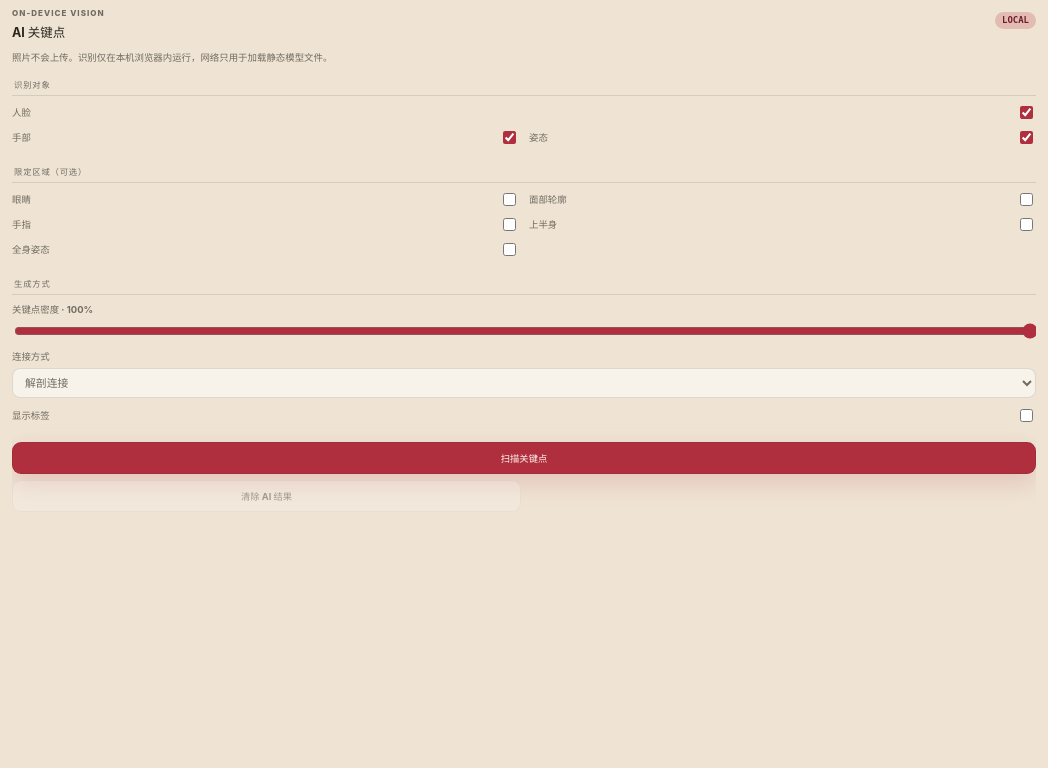
Test: AI scan panel › scans selected modes with chosen options and prevents a duplicate success
Click the checkbox labelled "手部". click: (510, 137)
box: left=503, top=131, right=516, bottom=144
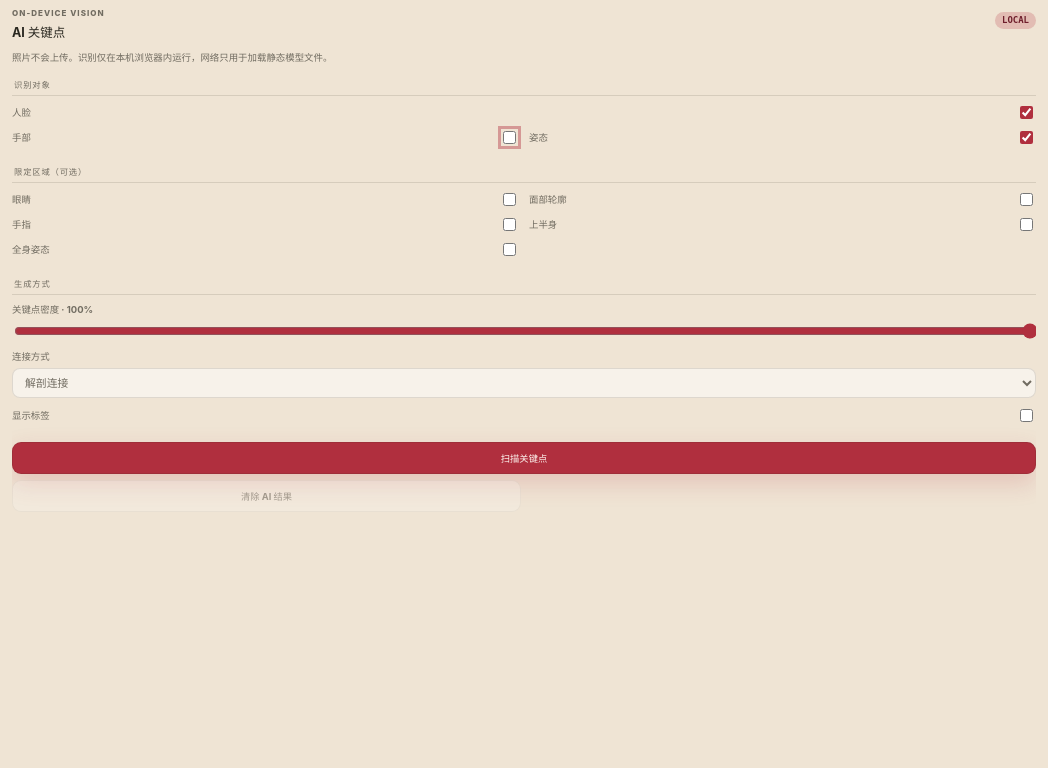
Click the checkbox labelled "姿态". click: (1026, 137)
box: left=1020, top=131, right=1033, bottom=144
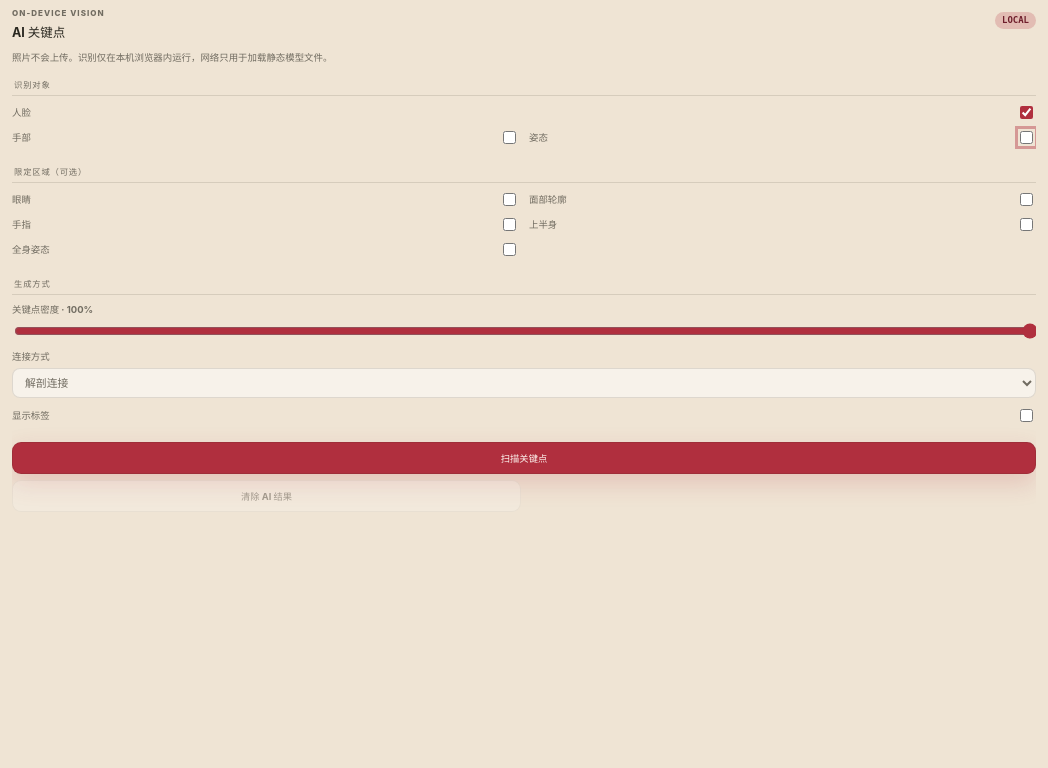
Click the checkbox labelled "眼睛". click: (510, 199)
box: left=503, top=193, right=516, bottom=206
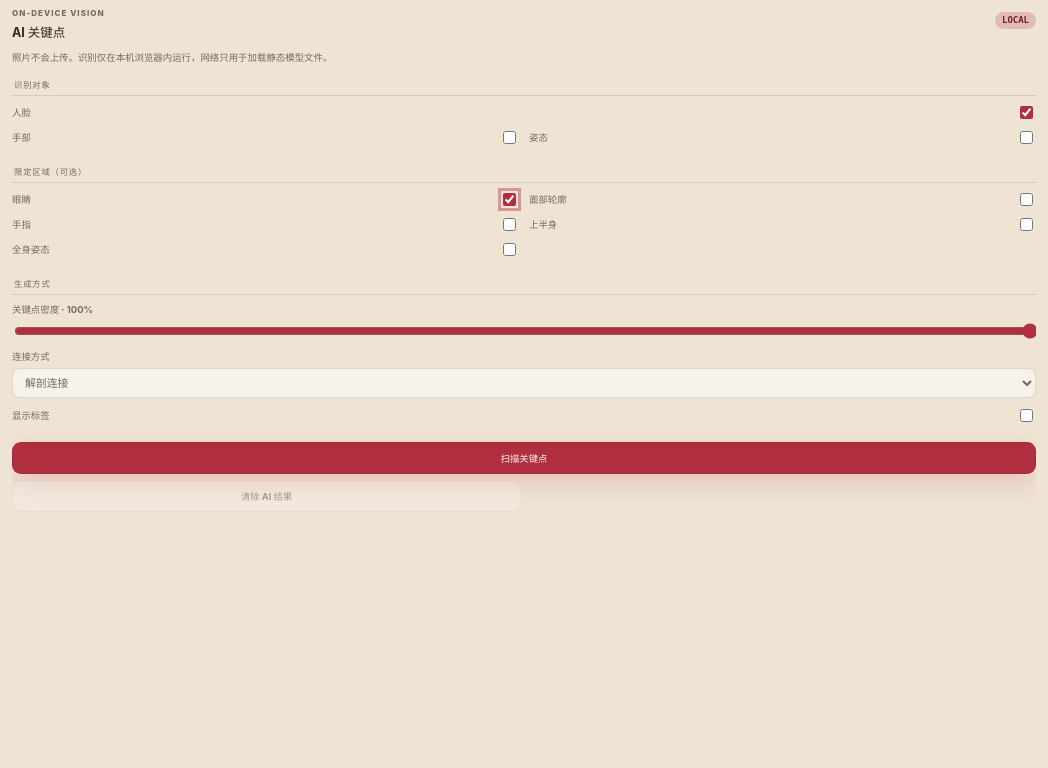
Set the slider labelled "关键点密度" to "50". click: (469, 331)
box: left=14, top=323, right=1036, bottom=339
Select "最近邻" in the dropdown labelled "连接方式". click: (524, 383)
box: left=12, top=368, right=1036, bottom=398
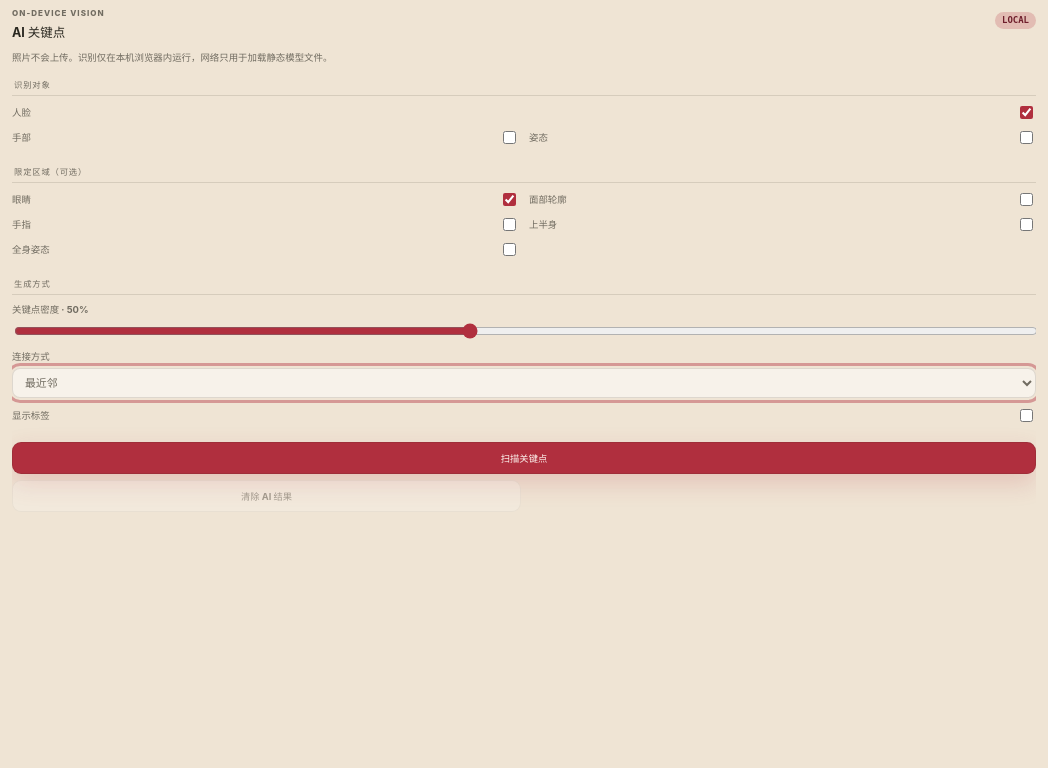
Click the checkbox labelled "显示标签". click: (1026, 415)
box: left=1020, top=409, right=1033, bottom=422
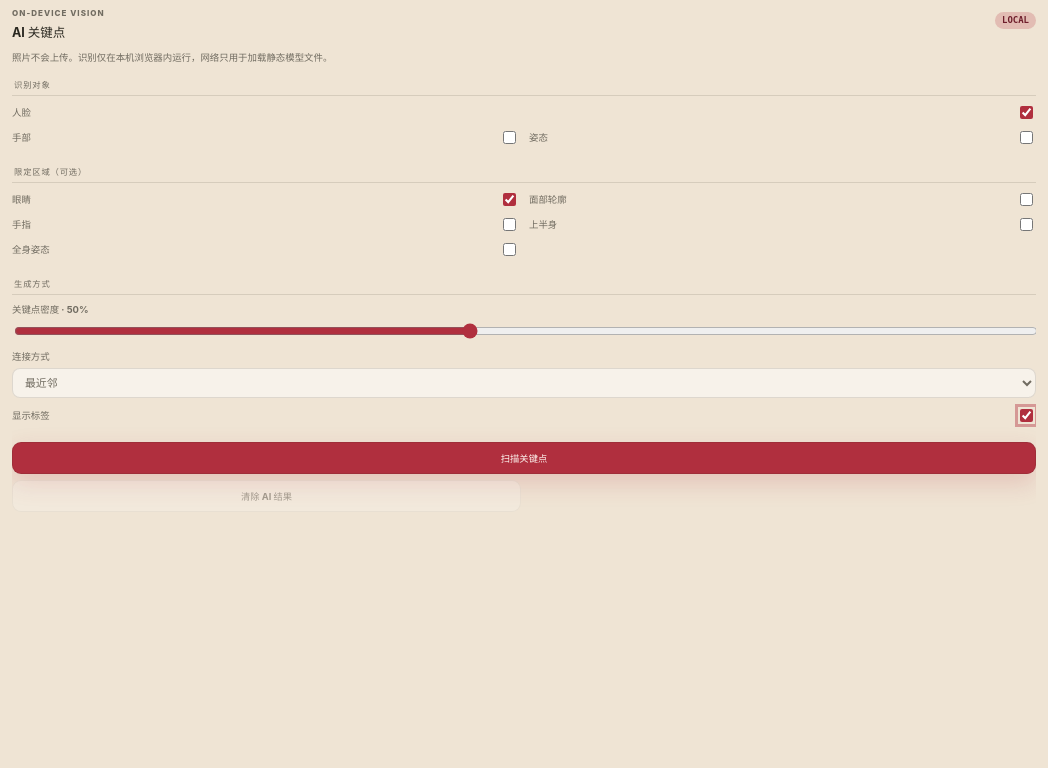
Click the button "扫描关键点". click: (524, 458)
box: left=12, top=442, right=1036, bottom=474
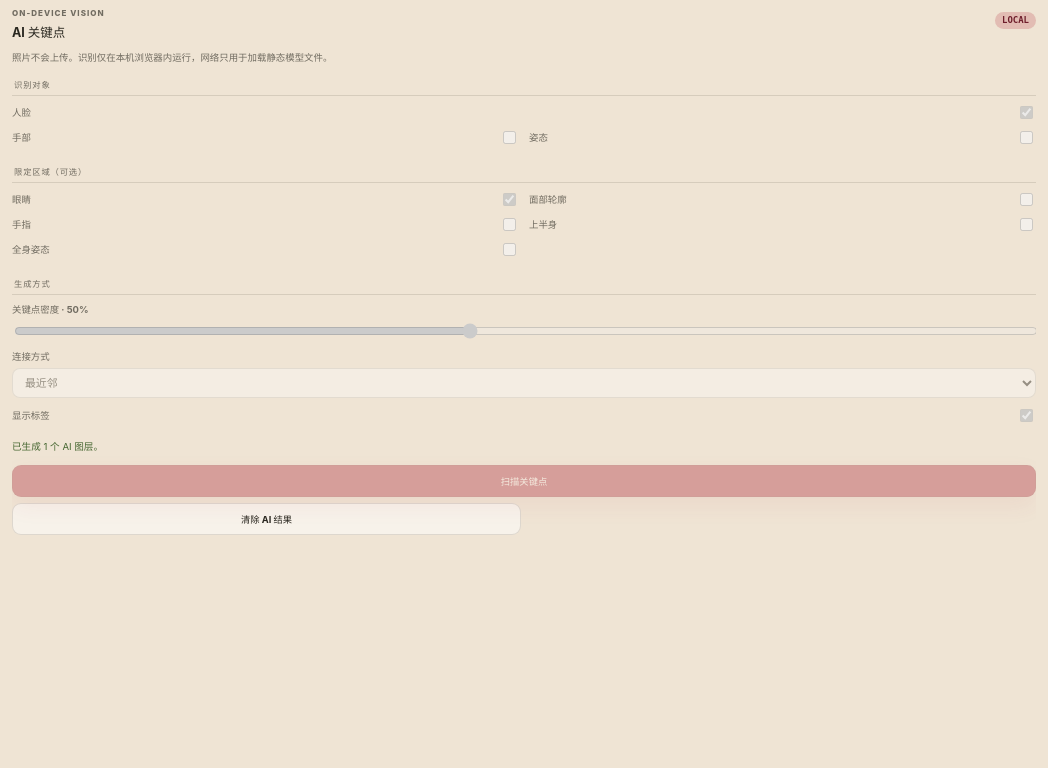
Now the text "已生成 1 个 AI 图层。" is shown, box left=12, top=441, right=103, bottom=452
Now the button "扫描关键点" is disabled, box left=12, top=465, right=1036, bottom=497
